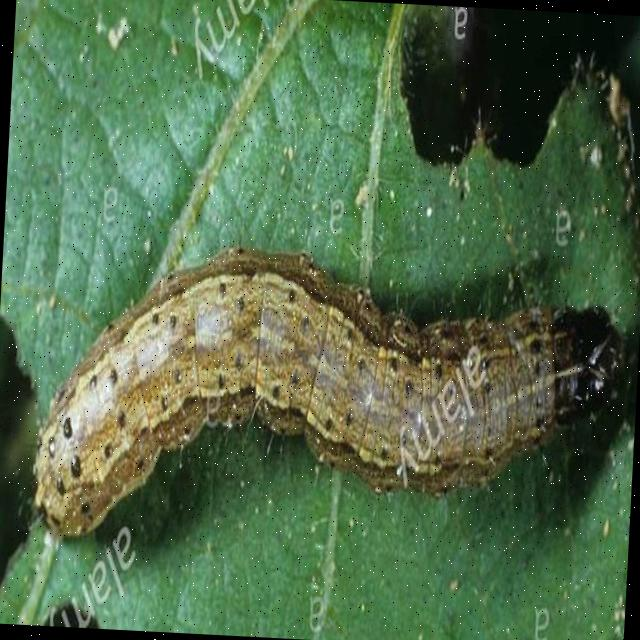worm: (28, 236, 632, 574)
